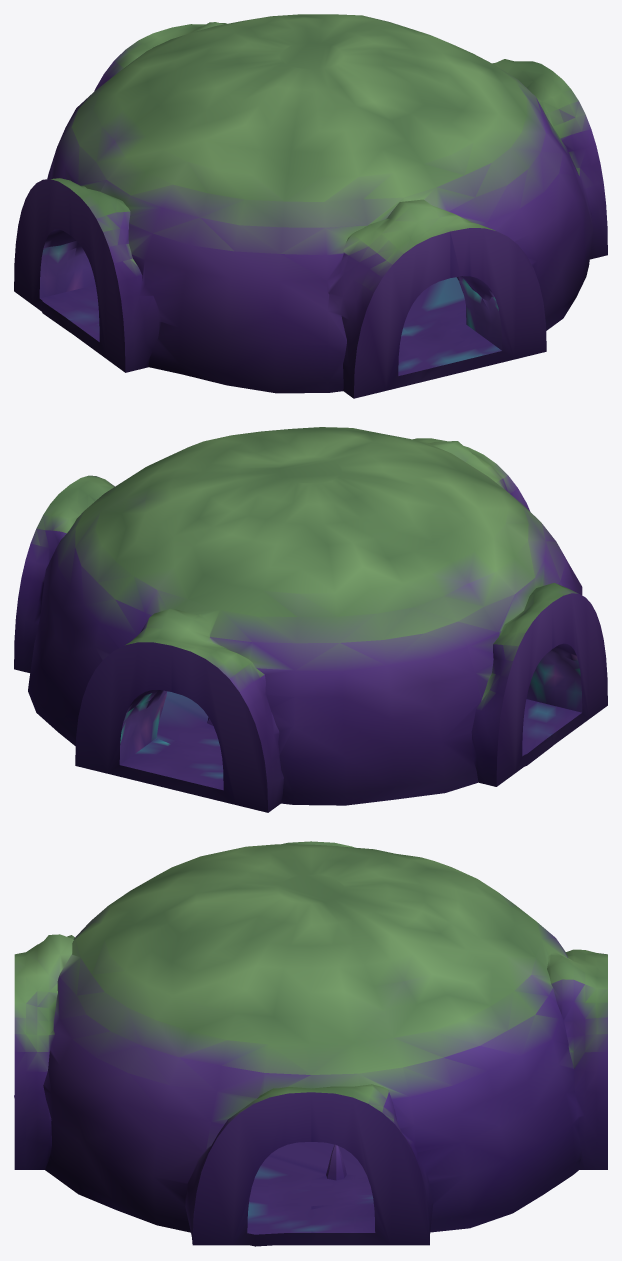
Rendered from hollow_cave_chamber.glb.
3 renders of one model, top to bottom at view 1: azimuth 30°, elevation 25°; view 2: azimuth 150°, elevation 25°; view 3: azimuth 270°, elevation 25°, orthographic. The views are drawn at different scales.
Parts seen in each view (by area): view 1: hollow_cave_chamber; view 2: hollow_cave_chamber; view 3: hollow_cave_chamber.
Boxes of the visible parts, bbox=[...] form: hollow_cave_chamber: bbox=[14, 14, 607, 398]; hollow_cave_chamber: bbox=[14, 427, 607, 812]; hollow_cave_chamber: bbox=[14, 841, 607, 1246].
Bounding box in the file's own units: 26.25 × 11.18 × 26.03.
